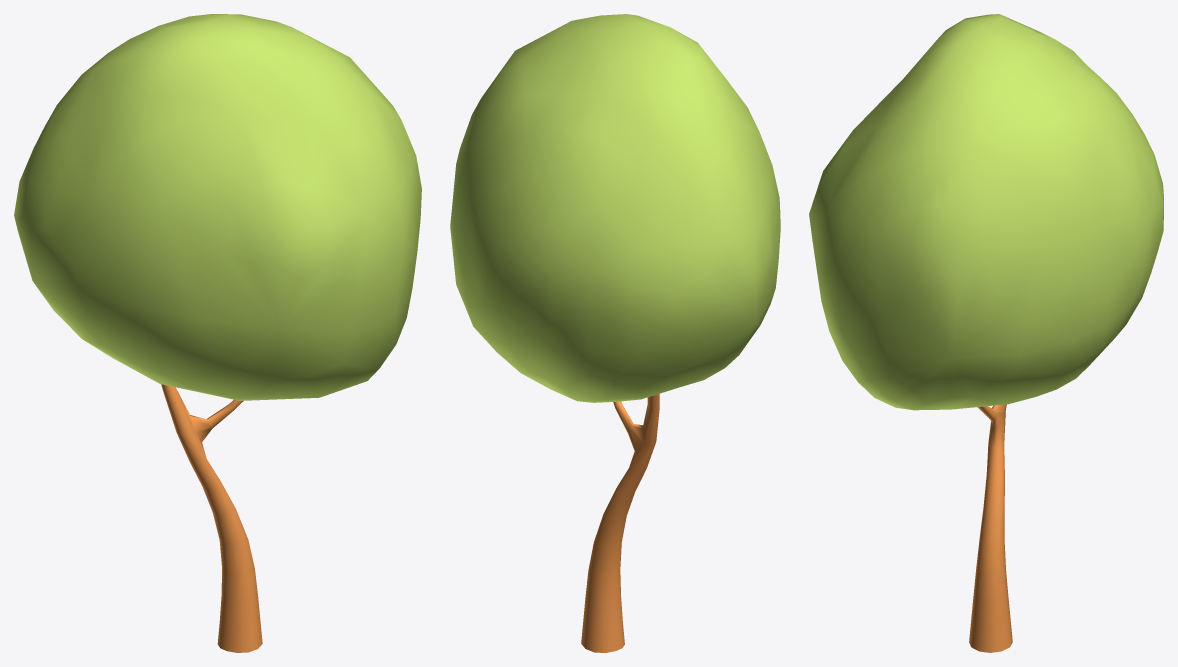
The model's file is Tree_A.fbx.
3 views of the same model, side by side, from view 1: azimuth 30°, elevation 25°; view 2: azimuth 150°, elevation 25°; view 3: azimuth 270°, elevation 25° (orthographic). The views are drawn at different scales.
Visible parts, largest first — view 1: Oak_Tree_m_01; view 2: Oak_Tree_m_01; view 3: Oak_Tree_m_01.
Boxes of the visible parts, x1,y1,x2,y2 form: Oak_Tree_m_01: [14, 14, 421, 652]; Oak_Tree_m_01: [450, 14, 780, 652]; Oak_Tree_m_01: [809, 14, 1163, 652].
Bounding box in the file's own units: 517 × 925 × 494.
